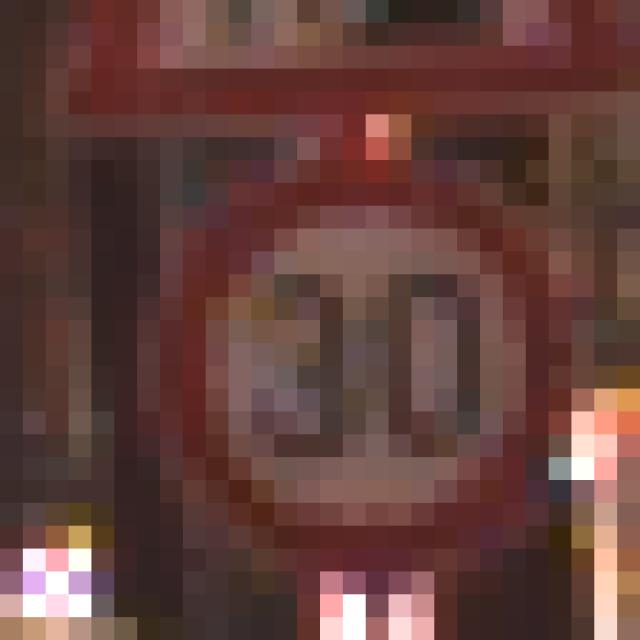Speed Limit -30-: (126, 103, 491, 491)
